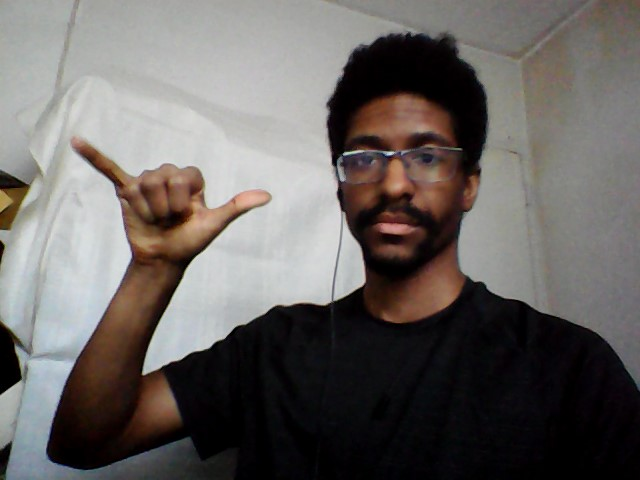y: (64, 128, 277, 274)
